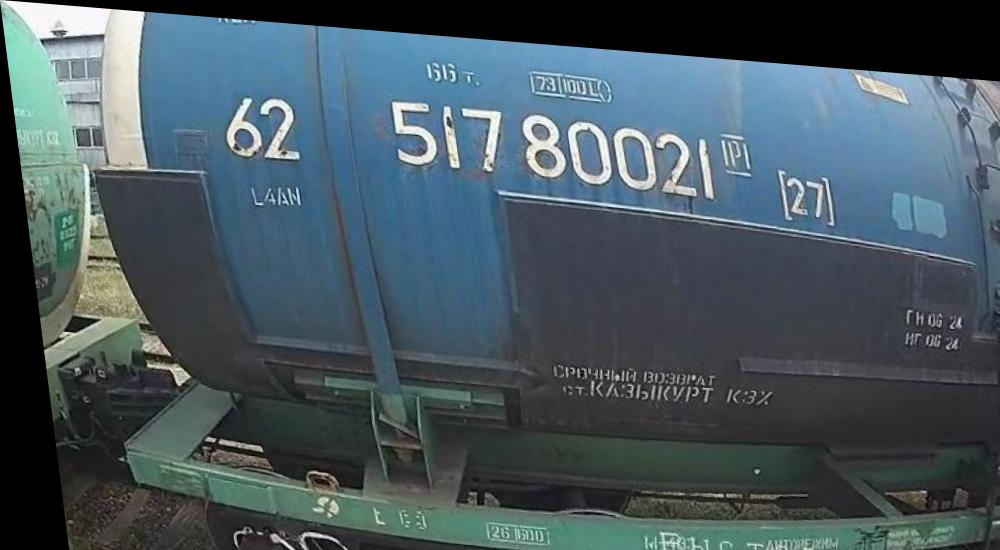Wagon-number: (382, 88, 716, 194)
